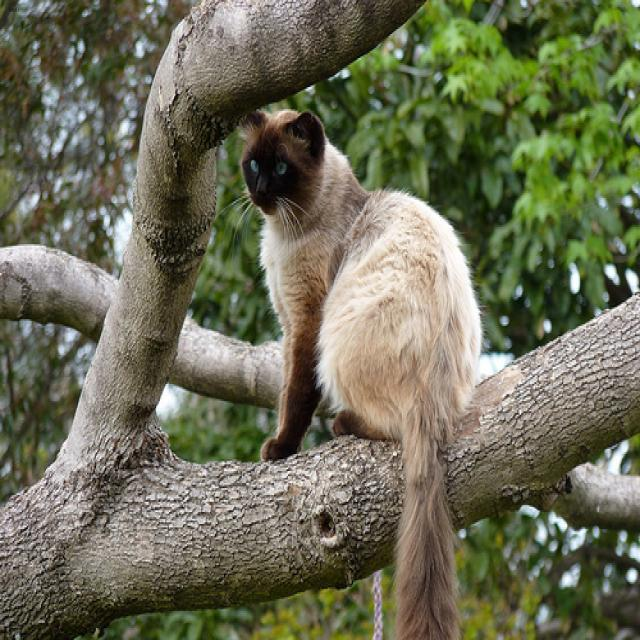Siamese: (238, 94, 331, 225)
